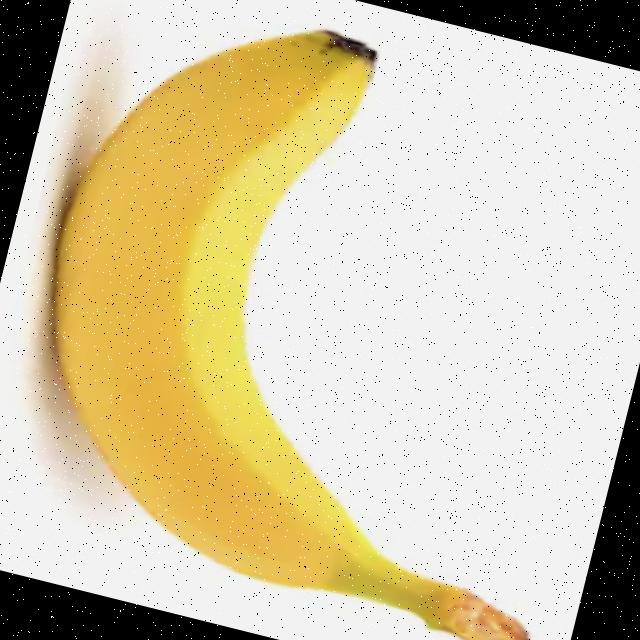Ripe: (0, 0, 589, 631)
